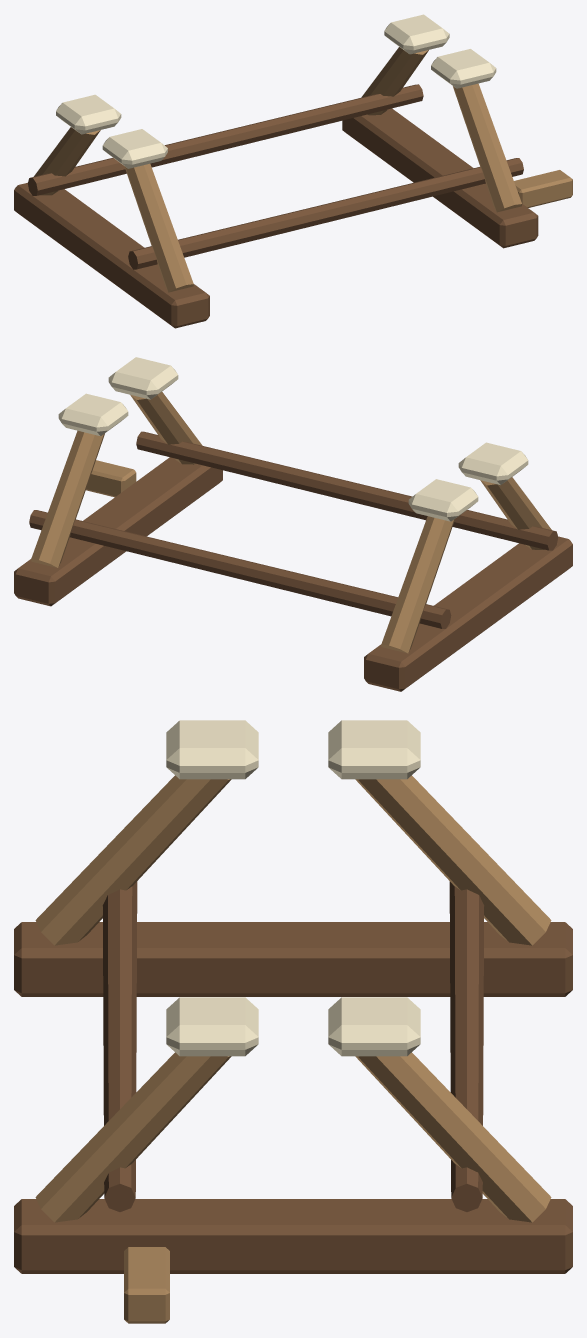
3 views of the same model, one above another, from view 1: azimuth 30°, elevation 25°; view 2: azimuth 150°, elevation 25°; view 3: azimuth 270°, elevation 25° (orthographic). The views are drawn at different scales.
Visible parts, largest first — view 1: CE-005 Padded boat repair cradle batched; view 2: CE-005 Padded boat repair cradle batched; view 3: CE-005 Padded boat repair cradle batched.
Part boxes in pixels (x1,y1,x2,y2): CE-005 Padded boat repair cradle batched: (14, 14, 572, 328); CE-005 Padded boat repair cradle batched: (14, 357, 572, 691); CE-005 Padded boat repair cradle batched: (14, 720, 572, 1323).
Size of the model in its own units: 2.29 by 0.715 by 1.45.
